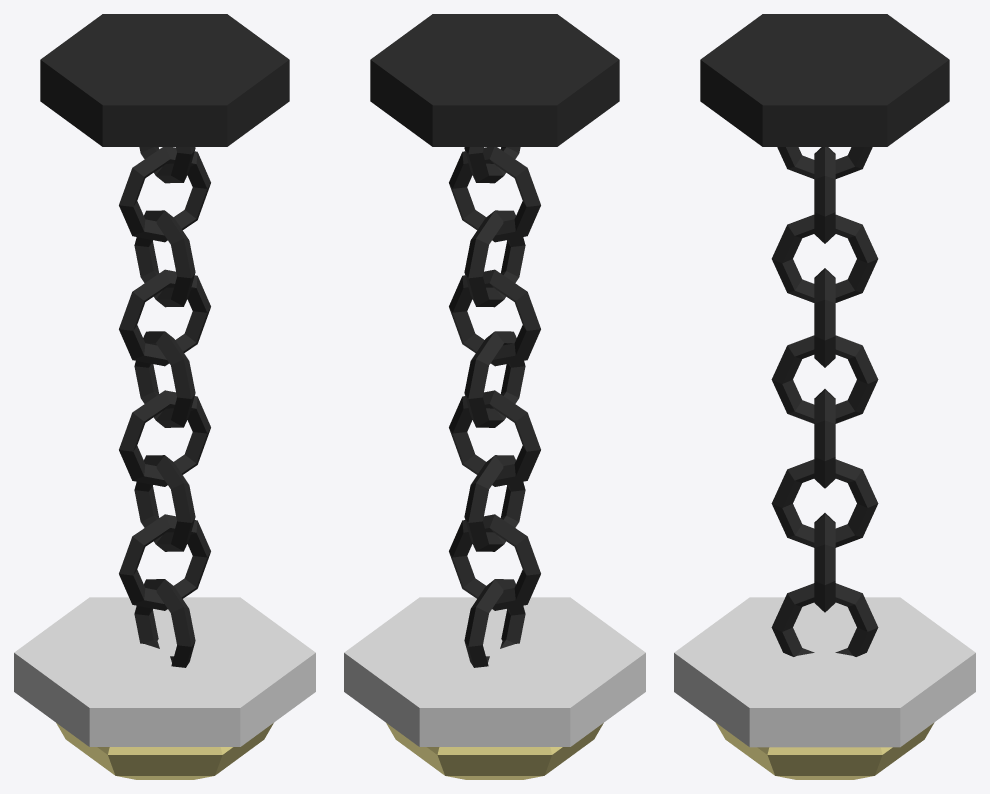
The model's file is light 1.fbx.
3 views of the same model, side by side, from view 1: azimuth 30°, elevation 25°; view 2: azimuth 150°, elevation 25°; view 3: azimuth 270°, elevation 25° (orthographic).
Visible parts, largest first — view 1: Cylinder.002, Cylinder, Sphere, Torus.003, Torus.007, Torus.005, Torus.001, Torus.006, Torus.002, Torus.004, Torus.008, Torus; view 2: Cylinder.002, Cylinder, Sphere, Torus.003, Torus.007, Torus.005, Torus.001, Torus.006, Torus.002, Torus.004, Torus.008, Torus; view 3: Cylinder.002, Cylinder, Sphere, Torus.004, Torus.006, Torus.002, Torus.008, Torus.007, Torus.005, Torus.003, Torus.001, Torus.
Part boxes in pixels (x1,y1,x2,y2): Cylinder.002: (14,597,315,746); Cylinder: (40,14,289,146); Sphere: (56,723,273,779); Torus.003: (119,269,210,366); Torus.007: (119,514,210,610); Torus.005: (119,390,210,486); Torus.001: (119,147,210,242); Torus.006: (134,455,195,551); Torus.002: (134,210,195,307); Torus.004: (134,331,195,427); Torus.008: (134,579,195,667); Torus: (139,147,195,183); Cylinder.002: (344,597,645,746); Cylinder: (370,14,619,146); Sphere: (386,723,603,779); Torus.003: (449,269,540,366); Torus.007: (449,514,540,610); Torus.005: (449,390,540,486); Torus.001: (449,147,540,242); Torus.006: (464,455,525,551); Torus.002: (464,210,525,307); Torus.004: (464,331,525,427); Torus.008: (464,579,525,667); Torus: (464,147,520,183); Cylinder.002: (674,597,975,747); Cylinder: (700,14,949,146); Sphere: (715,722,934,779); Torus.004: (771,335,878,423); Torus.006: (771,459,878,547); Torus.002: (771,214,878,302); Torus.008: (771,583,878,656); Torus.007: (814,513,835,612); Torus.005: (814,389,835,488); Torus.003: (814,268,835,367); Torus.001: (814,147,835,243); Torus: (777,147,872,178).
Size of the model in its own units: 68.28 by 204 by 78.84.
